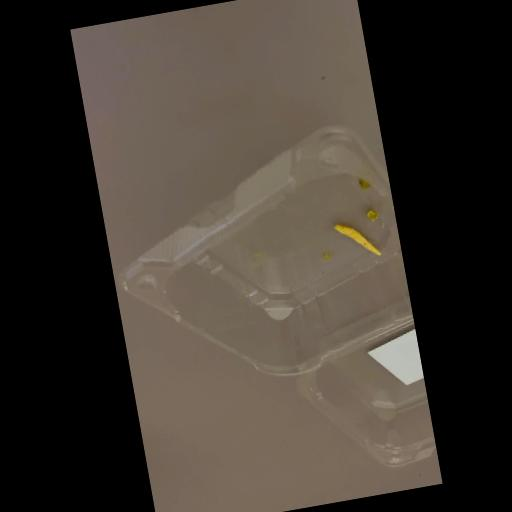small_plastic_container: (100, 120, 436, 508)
